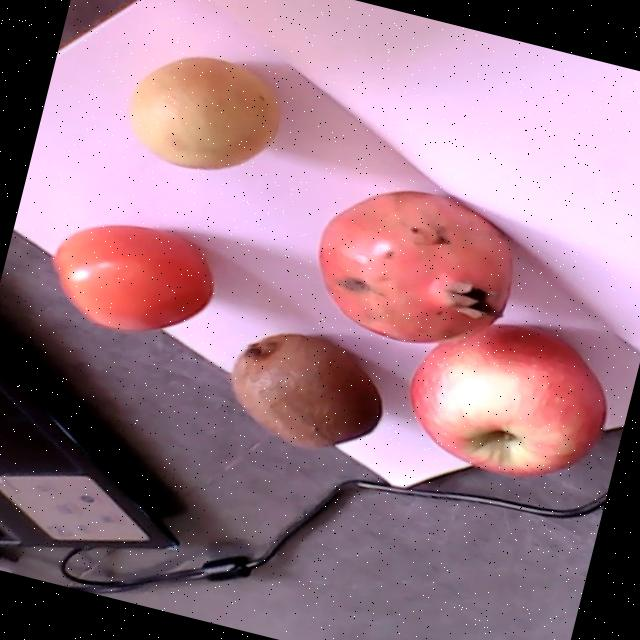apple: (408, 323, 604, 475)
kiwi: (231, 332, 379, 448)
lemon: (133, 56, 280, 169)
pomegranate: (319, 190, 511, 342)
tomato: (52, 223, 213, 332)
